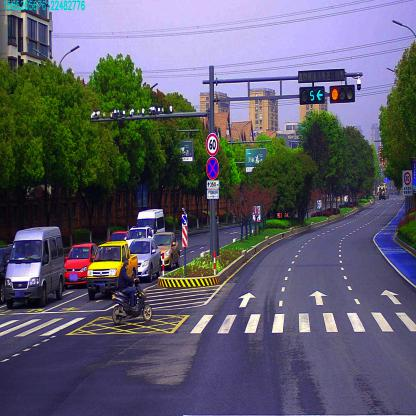traffic-light: (330, 86, 355, 107), (300, 87, 325, 104)
